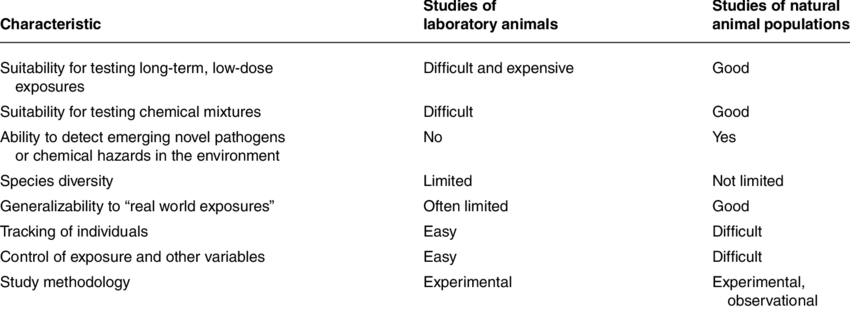fracking table: (1, 1, 850, 309)
